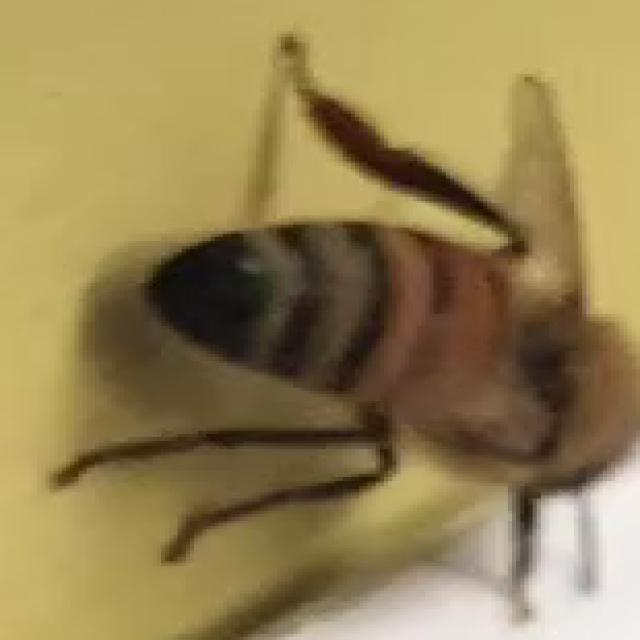honeybee: (135, 90, 620, 562)
